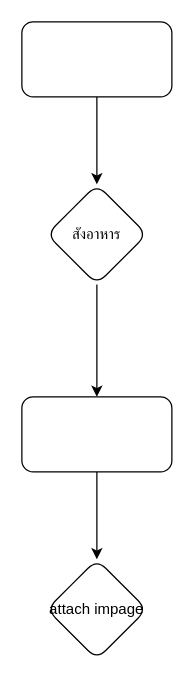
This 194x681 diagram has some shape labels left out. The centre of each missing label's shape, as x and y in pixels:
payment: the point at 96,434
ออเดอร์ + option: the point at 96,59
